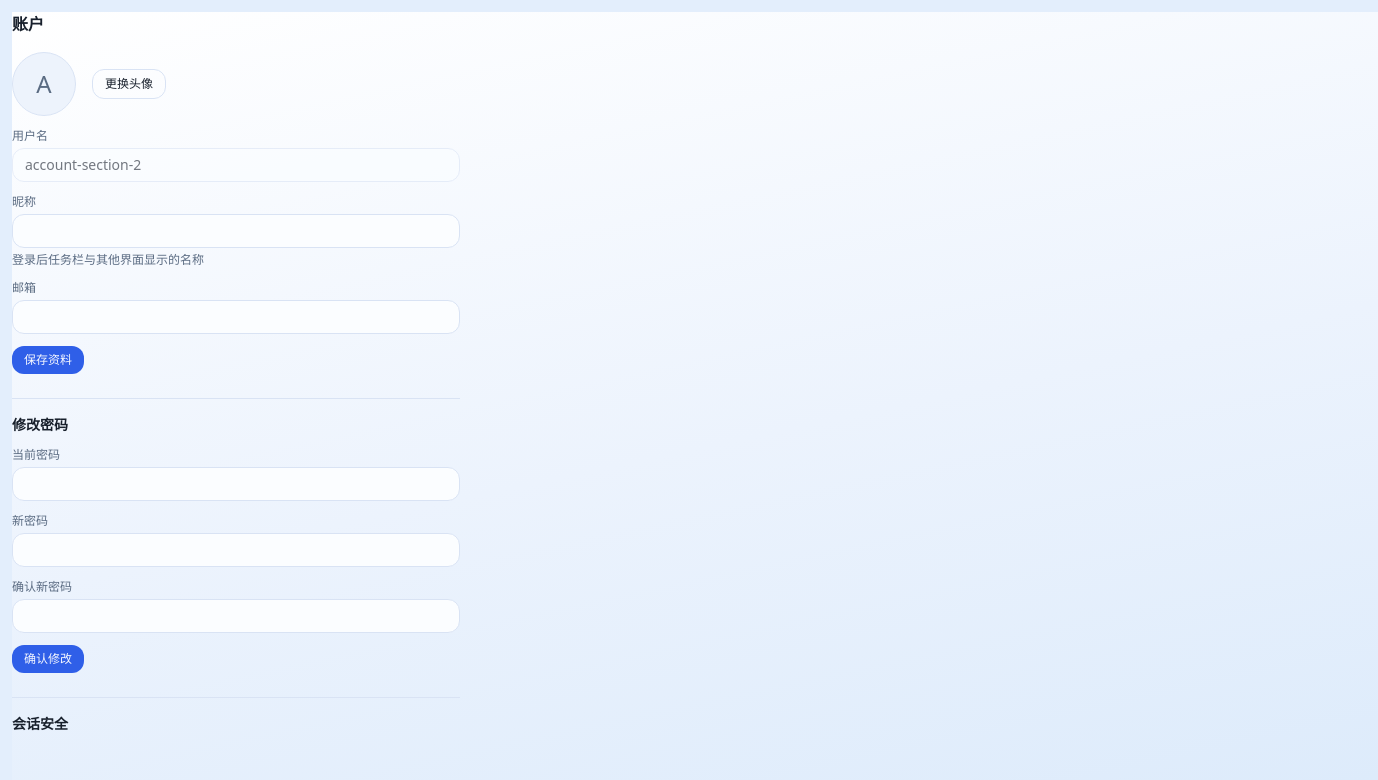
Test: AccountSection › saves profile fields into the session user
Type "爱丽丝" into the field labelled "昵称".
click(236, 231); type("爱丽丝")  # box [12,214,460,248]
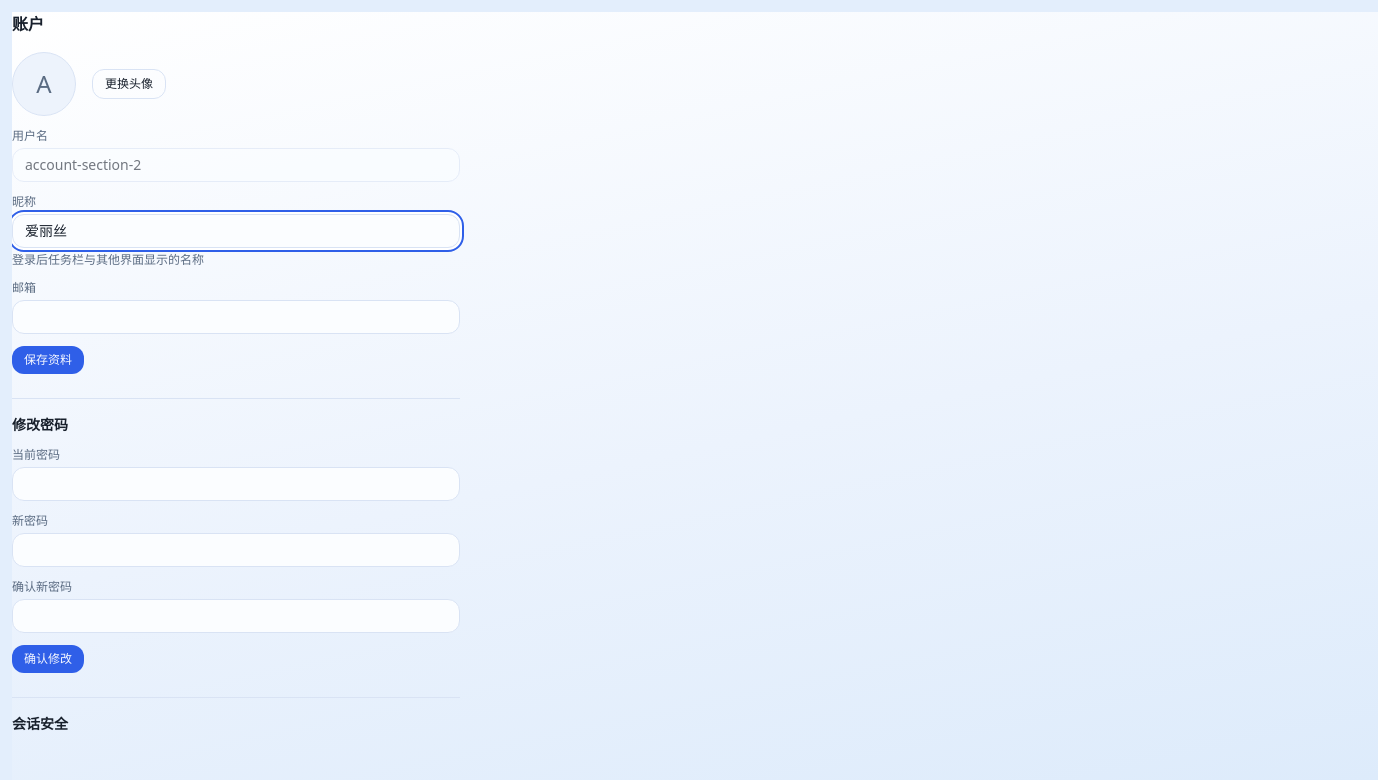
Type "alice@example.com" into the field labelled "邮箱".
click(236, 317); type("alice@example.com")  # box [12,300,460,334]
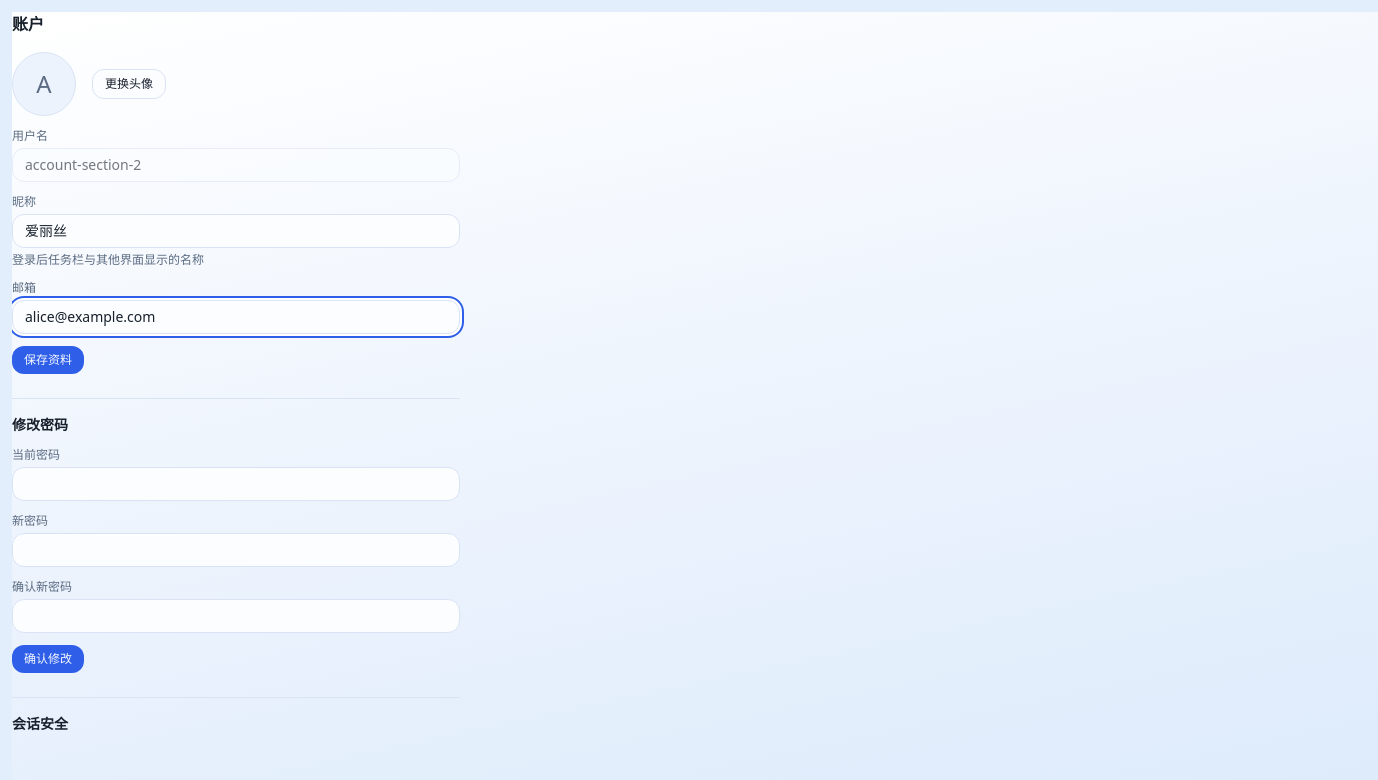
Click the button "保存资料".
click(48, 360)  # box [12,346,84,374]
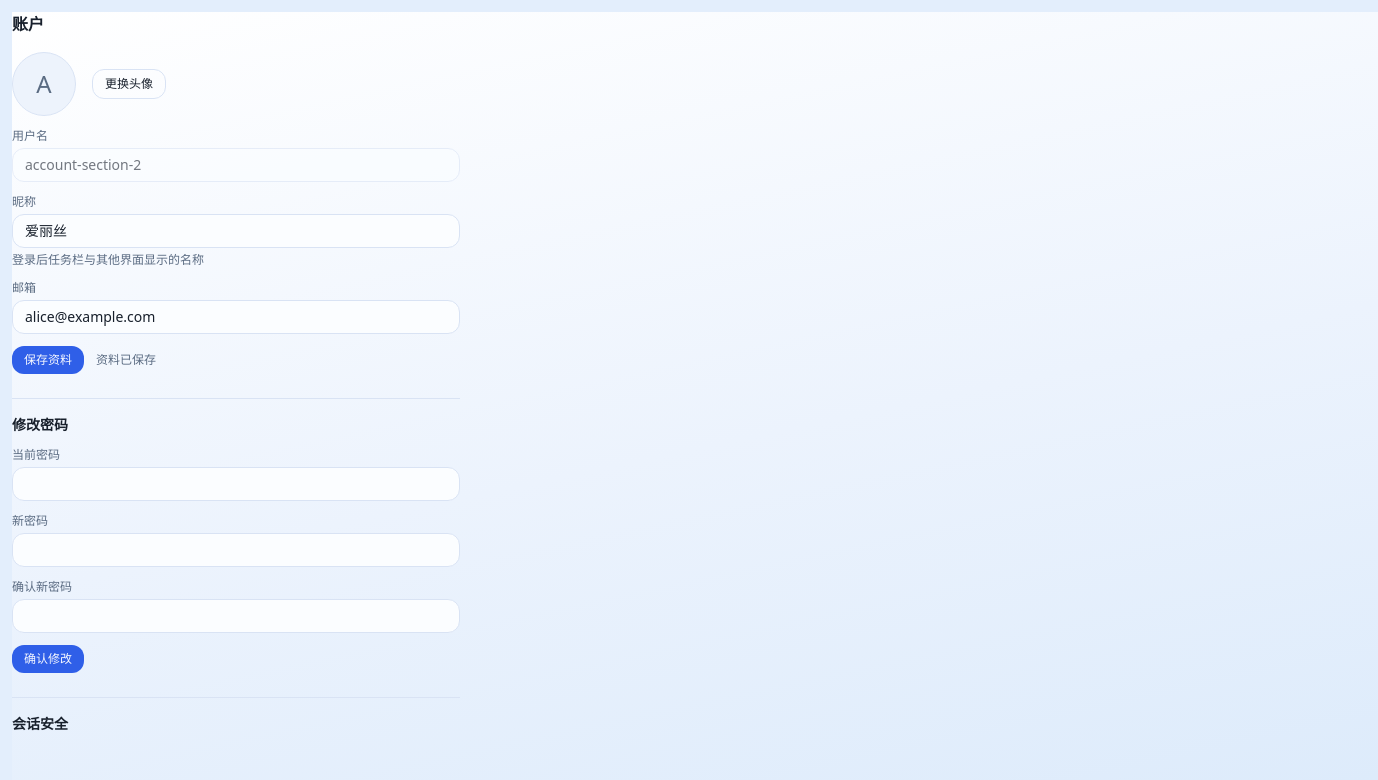
Result: the message reads "资料已保存" at [96,351,156,368]
